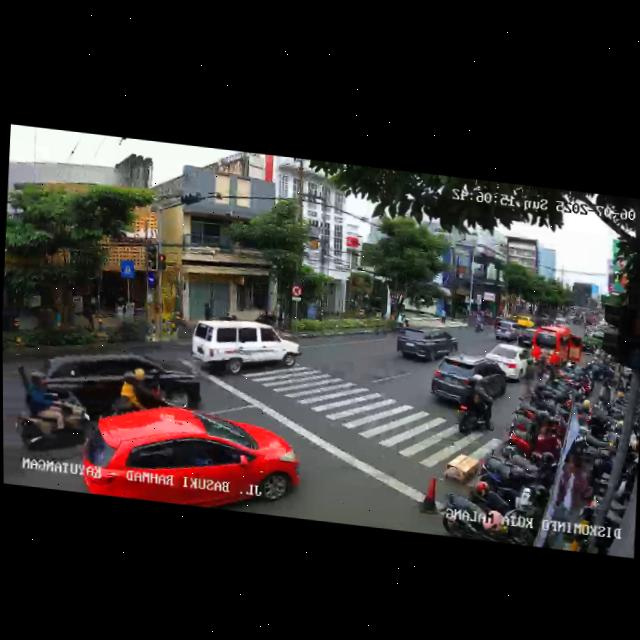car: (81, 395, 300, 518), (39, 342, 203, 416), (188, 312, 296, 384), (428, 346, 510, 417), (394, 319, 460, 366), (531, 324, 585, 377), (485, 342, 534, 384), (492, 318, 518, 344), (517, 326, 537, 349)
motorcycle: (9, 372, 96, 469), (110, 356, 173, 420), (455, 373, 495, 436), (473, 313, 485, 335)
